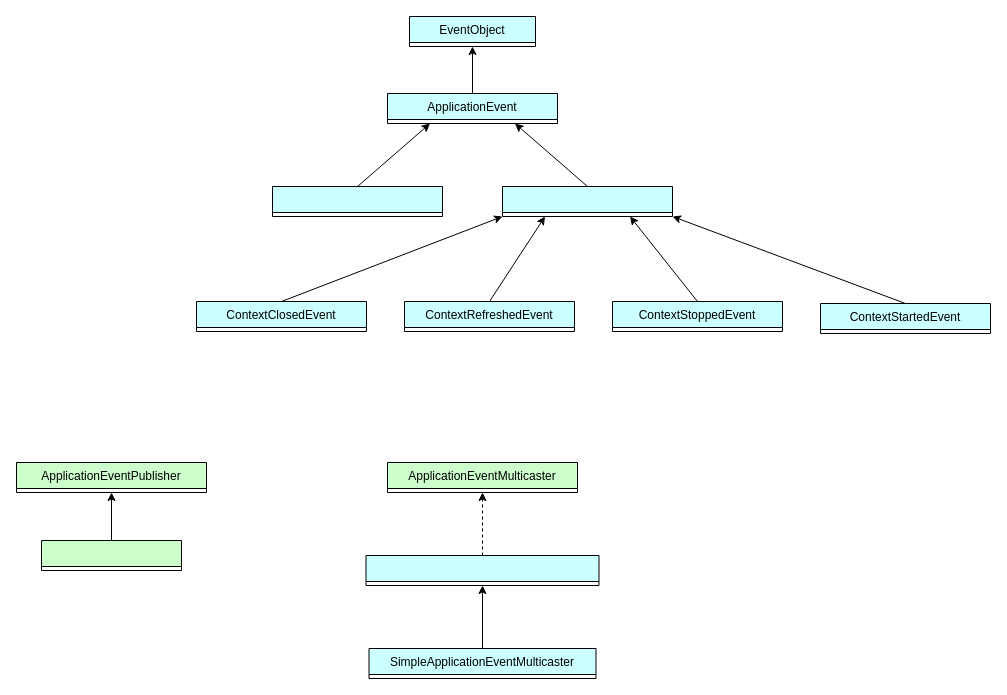
The diagram is 1007 pixels wide and 695 high, and some of its shapes have lost their labels. The shapes that lost their labels are listed below. From the top down, each one's centre as x and y in pixels, then its label:
point (357, 201): PayloadApplicationEvent
point (587, 201): ApplicationContextEvent
point (111, 555): ApplicationContext
point (482, 570): AbstractApplicationEventMulticaster
